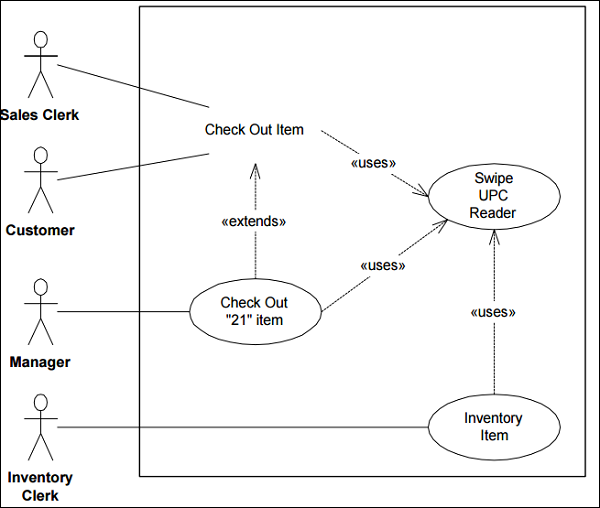actor: (22, 391, 59, 462), (22, 30, 59, 100), (22, 277, 59, 345), (23, 145, 57, 215)
association: (321, 217, 449, 312), (317, 130, 431, 198), (55, 62, 211, 108), (56, 152, 211, 181), (57, 423, 429, 431), (487, 229, 503, 392), (248, 162, 262, 278), (57, 308, 191, 315)
text: (467, 170, 520, 221), (218, 292, 289, 329), (5, 468, 76, 503), (462, 408, 529, 443), (203, 119, 306, 139), (1, 106, 82, 122), (7, 353, 72, 372), (4, 222, 80, 238), (219, 213, 290, 229), (348, 155, 400, 171), (359, 258, 408, 273), (469, 305, 519, 319)
use_case: (427, 162, 562, 231), (189, 277, 323, 345), (428, 393, 562, 461)
